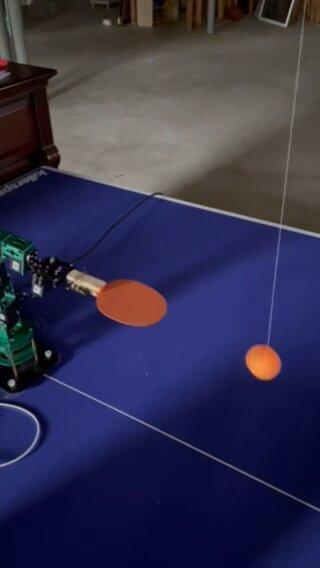oball: (245, 343, 281, 379)
